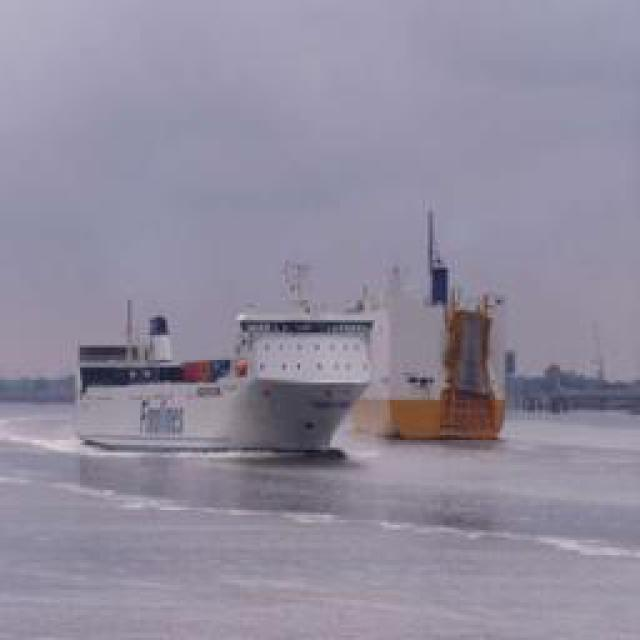Ship: (77, 295, 380, 460), (316, 205, 521, 446)
